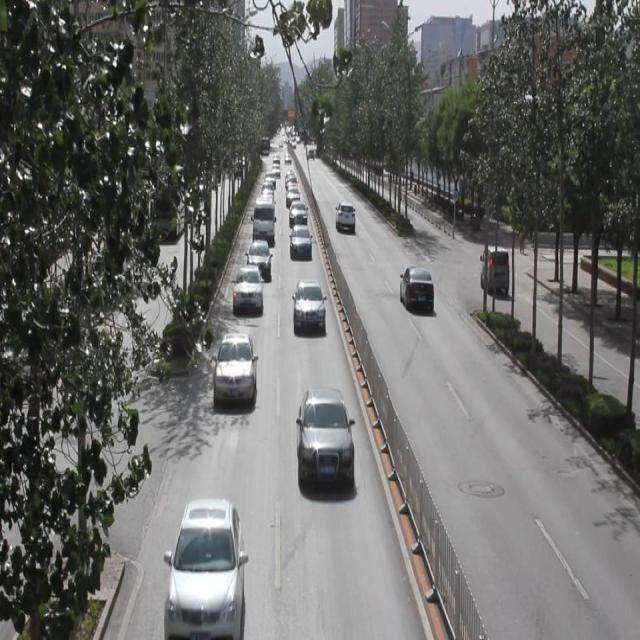car: (165, 498, 238, 640), (297, 385, 352, 478), (213, 331, 256, 404), (292, 277, 324, 329), (398, 263, 432, 308), (232, 264, 262, 314), (247, 239, 270, 280), (288, 225, 311, 262), (334, 201, 352, 232), (288, 199, 306, 221)
truck: (478, 242, 507, 294), (253, 194, 274, 240)
